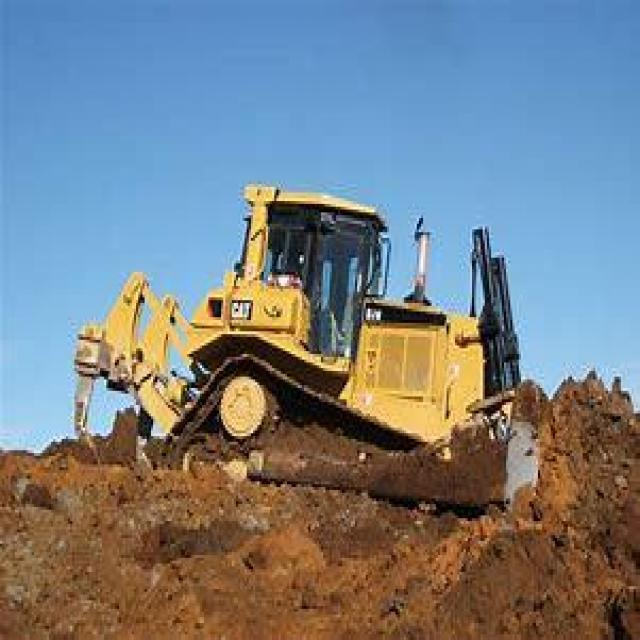Bulldozer: (61, 158, 548, 524)
